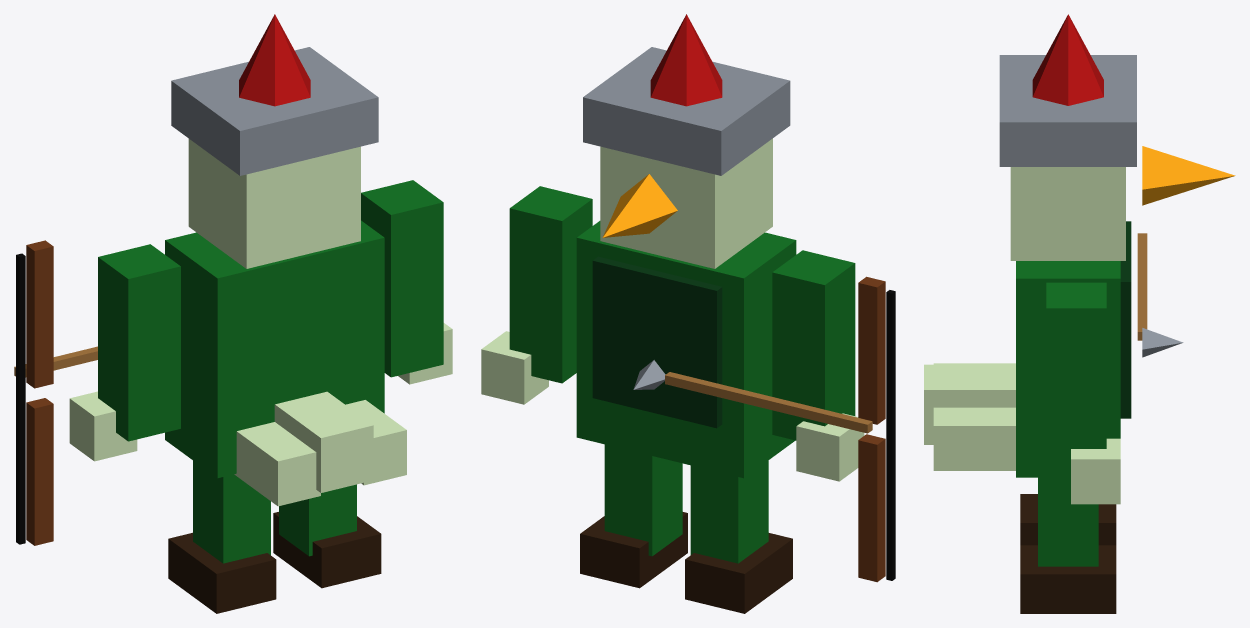
The model's file is birdknight_archer.obj.
3 views of the same model, side by side, from view 1: azimuth 30°, elevation 25°; view 2: azimuth 150°, elevation 25°; view 3: azimuth 270°, elevation 25° (orthographic).
Parts seen in each view (by area): view 1: BirdKnight_Archer; view 2: BirdKnight_Archer; view 3: BirdKnight_Archer.
Part boxes in pixels (x1,y1,x2,y2): BirdKnight_Archer: (14, 14, 452, 613); BirdKnight_Archer: (481, 14, 895, 613); BirdKnight_Archer: (924, 14, 1235, 613).
Bounding box in the file's own units: 1.72 × 2.25 × 1.13.
